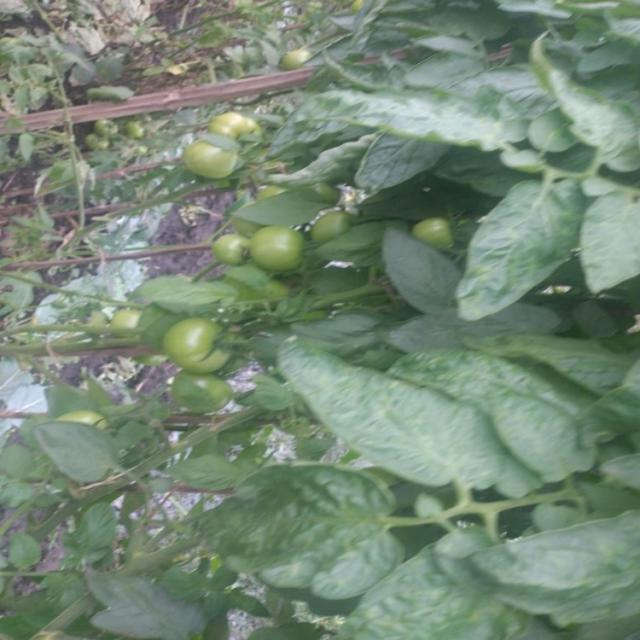tomato: (235, 213, 306, 292), (174, 125, 250, 187), (201, 97, 259, 157), (411, 205, 482, 253), (162, 319, 228, 367), (301, 200, 363, 246), (83, 126, 131, 164), (274, 36, 314, 75), (122, 121, 159, 151), (91, 116, 125, 138)
